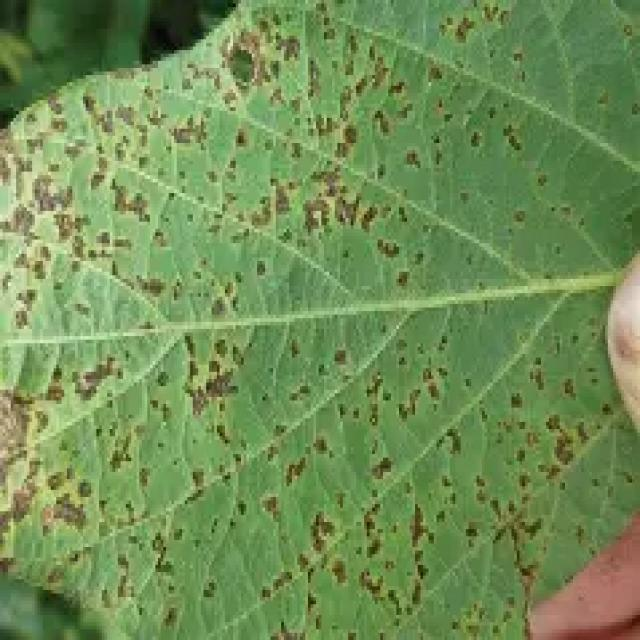leaf_spot: (0, 0, 637, 636)
